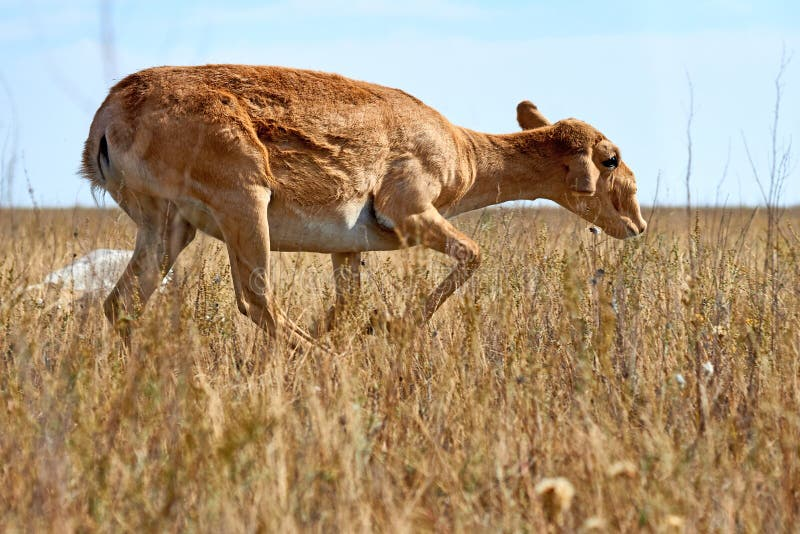saiga: (81, 63, 651, 358)
